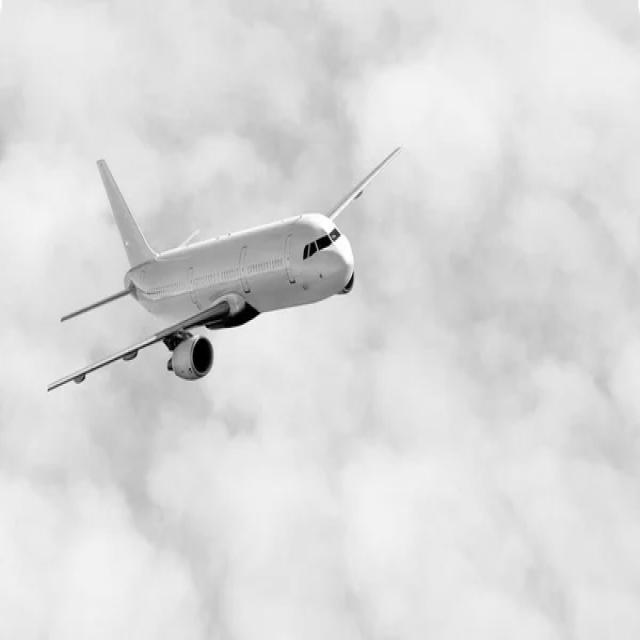Aircraft: (39, 125, 410, 416)
